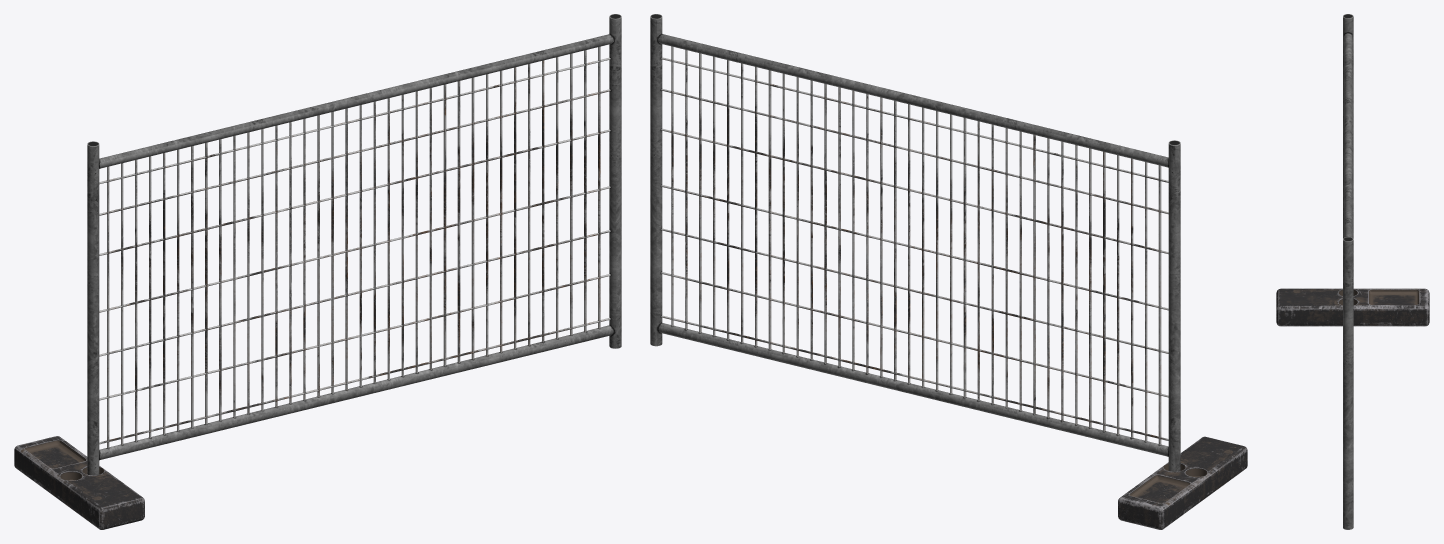
File: metal_fence_panel.glb
3 renders of one model, left to right at view 1: azimuth 30°, elevation 25°; view 2: azimuth 150°, elevation 25°; view 3: azimuth 270°, elevation 25°, orthographic. The views are drawn at different scales.
Parts seen in each view (by area): view 1: pCylinder53, pCylinder54, polySurface3; view 2: pCylinder53, pCylinder54, polySurface3; view 3: pCylinder54, polySurface3.
Boxes of the visible parts, <box> form: pCylinder53: <box>99,46,610,448</box>; pCylinder54: <box>87,14,621,475</box>; polySurface3: <box>14,436,144,529</box>; pCylinder53: <box>661,46,1168,445</box>; pCylinder54: <box>650,14,1180,471</box>; polySurface3: <box>1118,436,1247,529</box>; pCylinder54: <box>1343,14,1353,529</box>; polySurface3: <box>1276,288,1429,326</box>.
Size of the model in its own units: 0.0677 by 0.0403 by 0.0183.
Materials: 4 (3 with a texture image).
